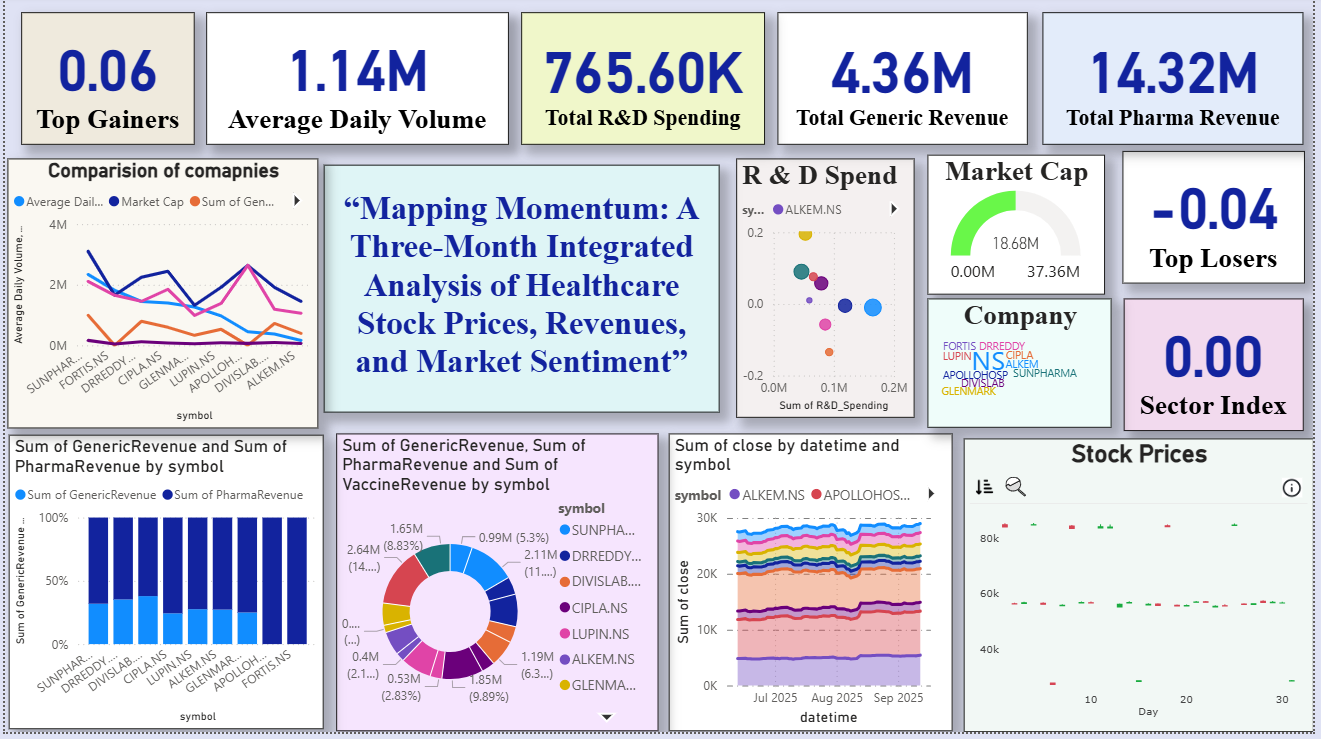

Layout of this report page (visuals, bound fields, positions):
{"tool":"powerbi","page":{"name":"Page 1","canvas":[1280,720],"ordinal":0},"visuals":[{"type":"card","fields":{"Values":["stocks.Top Gainers"]},"box":[15.9,15.9,170,129.6],"z":0},{"type":"card","fields":{"Values":["stocks.Top Losers"]},"box":[1093.2,151.6,178.5,129.6],"z":1000},{"type":"card","fields":{"Values":["stocks.Average Daily Volume"]},"box":[196.9,15.9,295.9,129.6],"z":2000},{"type":"card","fields":{"Values":["stocks.Sector Index"]},"box":[1094.4,295.8,176.1,129.6],"z":3000},{"type":"stackedAreaChart","fields":{"Y":["Sum(stocks.close)"],"Series":["stocks.symbol"],"Category":["stocks.datetime"]},"box":[649.3,428.2,277.5,291.5],"z":4000},{"type":"donutChart","fields":{"Category":["stocks.symbol"],"Y":["Sum(stocks.GenericRevenue)","Sum(stocks.PharmaRevenue)","Sum(stocks.VaccineRevenue)"]},"box":[323.9,428.2,315.5,291.5],"z":5000},{"type":"scatterChart","title":"R & D Spend","fields":{"X":["Sum(stocks.R&D_Spending)"],"Series":["stocks.symbol"],"Y":["Sum(stocks.pctchange)"],"Size":["Sum(stocks.volume)"]},"box":[715.5,159.2,174.6,253.5],"z":6000},{"type":"hundredPercentStackedColumnChart","fields":{"Category":["stocks.symbol"],"Y":["Sum(stocks.GenericRevenue)","Sum(stocks.PharmaRevenue)"]},"box":[4,429.3,308,288],"z":7000},{"type":"card","fields":{"Values":["stocks.Total Generic Revenue"]},"box":[755.7,15.9,244.6,129.6],"z":8000},{"type":"card","fields":{"Values":["stocks.Total Pharma Revenue"]},"box":[1015,15.9,255.6,129.6],"z":9000},{"type":"card","fields":{"Values":["stocks.Total R&D Spending"]},"box":[505,15.9,238.5,129.6],"z":10000},{"type":"gauge","title":"Market Cap","fields":{"Y":["stocks.Market Cap"],"TargetValue":["Sum(stocks.volume)"]},"box":[902.8,154.9,173.2,136.6],"z":11000},{"type":"WordCloud1447959067750","title":"Company","fields":{"Category":["stocks.symbol"],"Values":["stocks.Market Sentiment"]},"box":[902.8,295.8,180.3,126.8],"z":12000},{"type":"textbox","box":[311.3,164.8,387.3,242.3],"z":13000},{"type":"lineChart","title":"Comparision of comapnies","fields":{"Category":["stocks.symbol"],"Y":["stocks.Average Daily Volume","stocks.Market Cap","Sum(stocks.GenericRevenue)","Sum(stocks.R&D_Spending)","Sum(stocks.PharmaRevenue)"]},"box":[2.7,158.7,304,264],"z":14000},{"type":"candlestickD7180D8F77642DBFBF61A4FEEE09DDBD","title":"Stock Prices","fields":{"col_4":["Sum(stocks.close)"],"col_2":["Sum(stocks.high)"],"col_3":["Sum(stocks.high)"],"col_1":["Sum(stocks.open)"],"col_0":["stocks.datetime.Variation.Date Hierarchy.Day"]},"box":[938,432.4,342.3,287.3],"z":15000}]}

Visuals, with their boxes in screenshot pixels (x1, y1, x2, y2), scaled from the page's 1280x720 canvas onto the 1321x739 screenshot:
card - stocks.Top Gainers: x1=16 y1=16 x2=192 y2=149
card - stocks.Top Losers: x1=1128 y1=156 x2=1312 y2=289
card - stocks.Average Daily Volume: x1=203 y1=16 x2=509 y2=149
card - stocks.Sector Index: x1=1129 y1=304 x2=1311 y2=437
stackedAreaChart - Sum(stocks.close) x stocks.symbol: x1=670 y1=439 x2=956 y2=738
donutChart - stocks.symbol x Sum(stocks.GenericRevenue): x1=334 y1=439 x2=660 y2=738
"R & D Spend" scatterChart: x1=738 y1=163 x2=919 y2=424
hundredPercentStackedColumnChart - stocks.symbol x Sum(stocks.GenericRevenue): x1=4 y1=441 x2=322 y2=736
card - stocks.Total Generic Revenue: x1=780 y1=16 x2=1032 y2=149
card - stocks.Total Pharma Revenue: x1=1048 y1=16 x2=1311 y2=149
card - stocks.Total R&D Spending: x1=521 y1=16 x2=767 y2=149
"Market Cap" gauge: x1=932 y1=159 x2=1110 y2=299
"Company" WordCloud1447959067750: x1=932 y1=304 x2=1118 y2=434
textbox: x1=321 y1=169 x2=721 y2=418
"Comparision of comapnies" lineChart: x1=3 y1=163 x2=317 y2=434
"Stock Prices" candlestickD7180D8F77642DBFBF61A4FEEE09DDBD: x1=968 y1=444 x2=1320 y2=738
